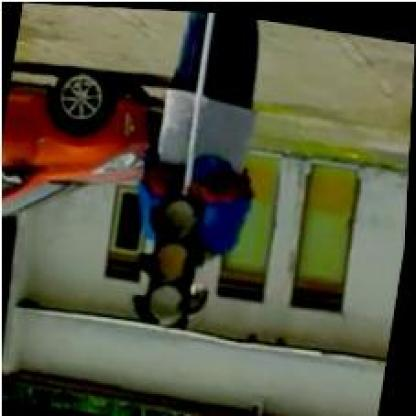yellow: (136, 188, 209, 329)
